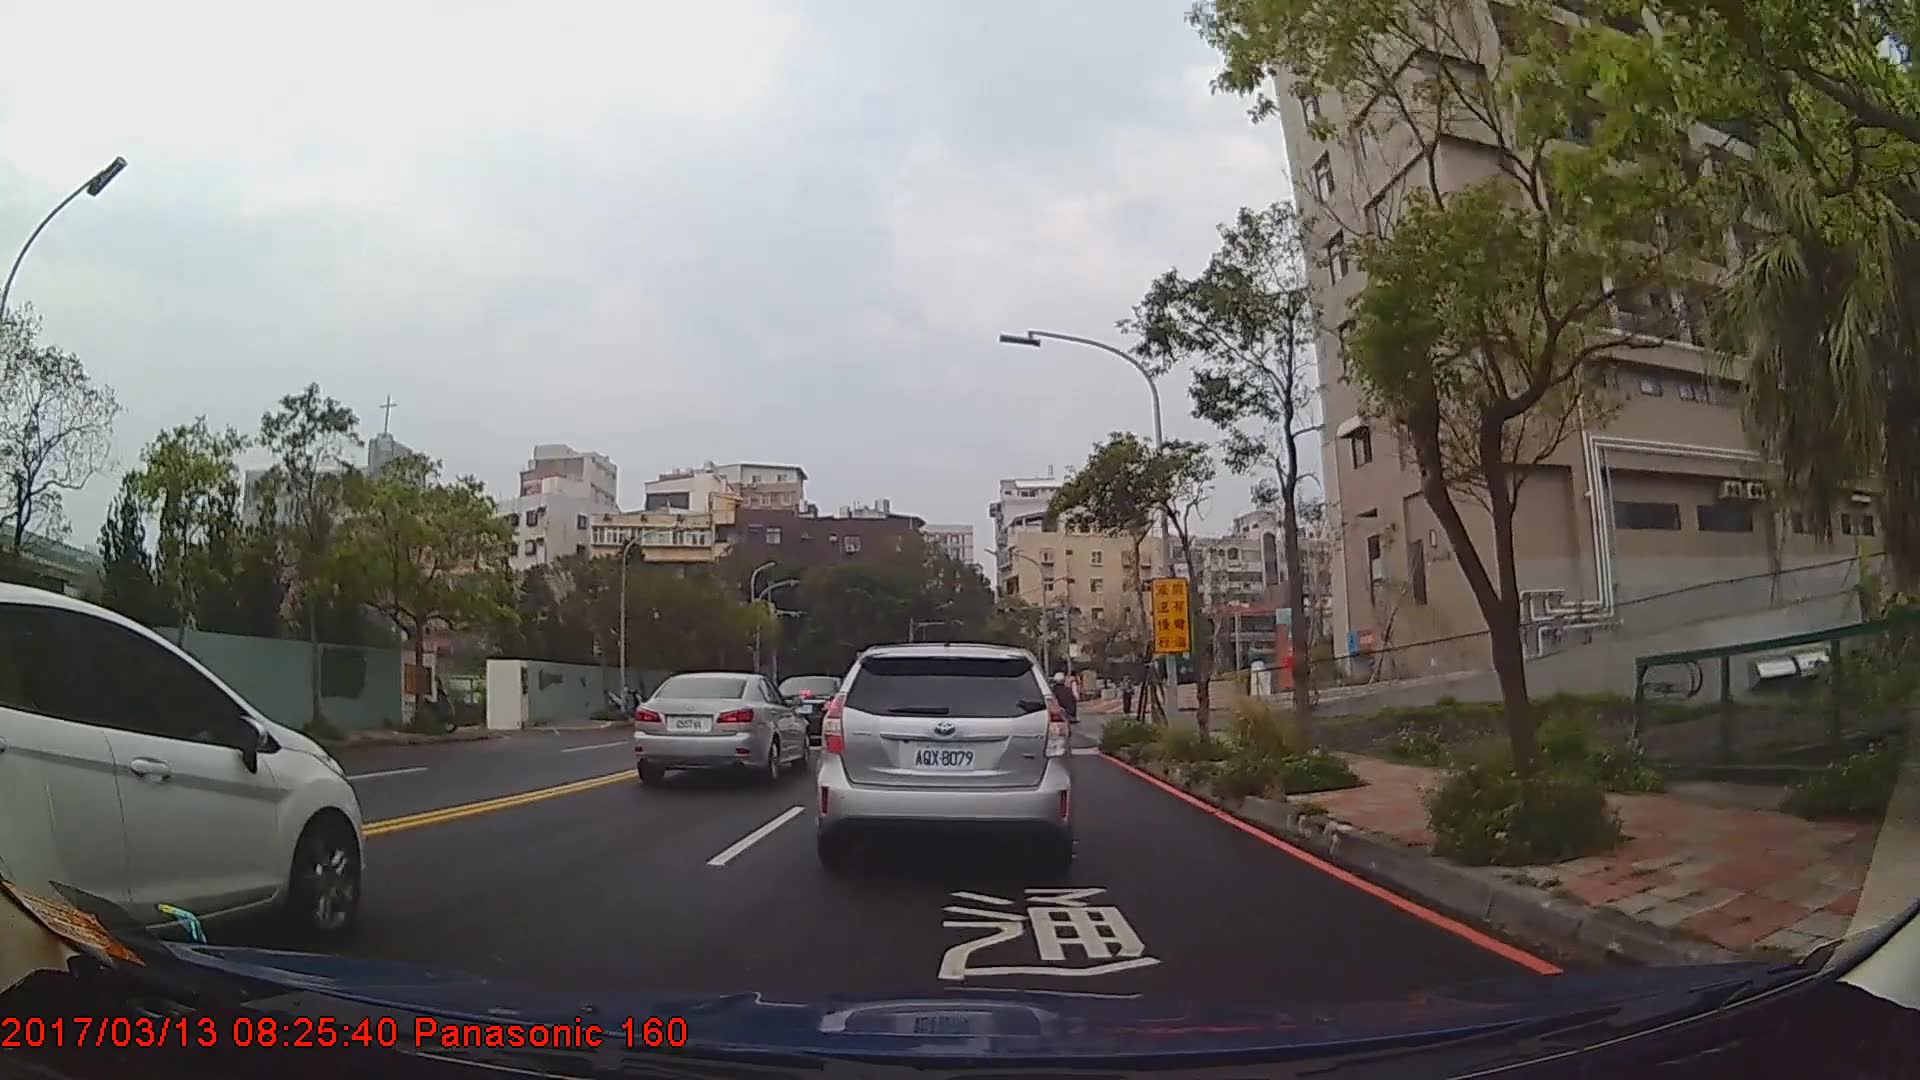rider: (1044, 671, 1078, 748)
vehicle: (0, 578, 363, 955), (816, 641, 1072, 870), (633, 671, 809, 784), (775, 674, 858, 741)
